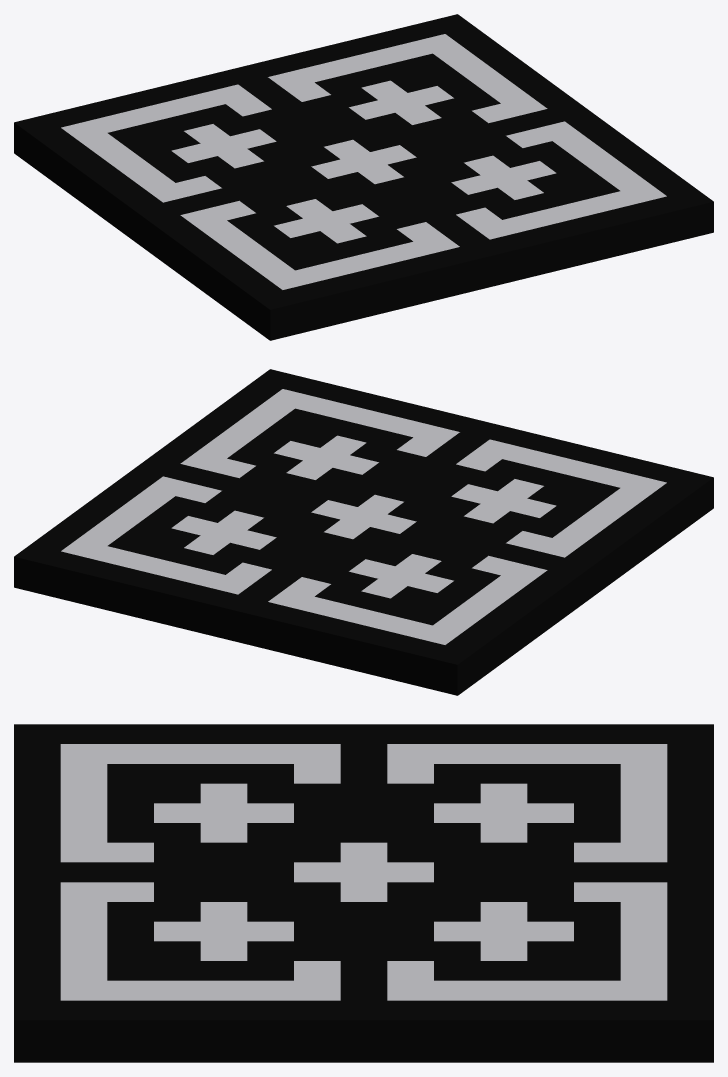
The model's file is dungeon_d_a_ground_c_b.obj.
The picture shows the model from 3 angles, top to bottom: view 1: azimuth 30°, elevation 25°; view 2: azimuth 150°, elevation 25°; view 3: azimuth 270°, elevation 25°; orthographic projection. The views are drawn at different scales.
Size of the model in its own units: 1.5 by 0.1 by 1.5.
Materials: 1 (1 with a texture image).
